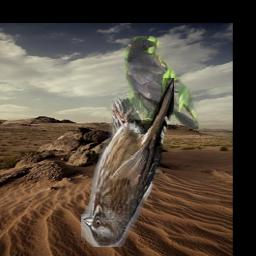Crow: (126, 37, 200, 130)
Sparrow: (81, 79, 174, 248)
